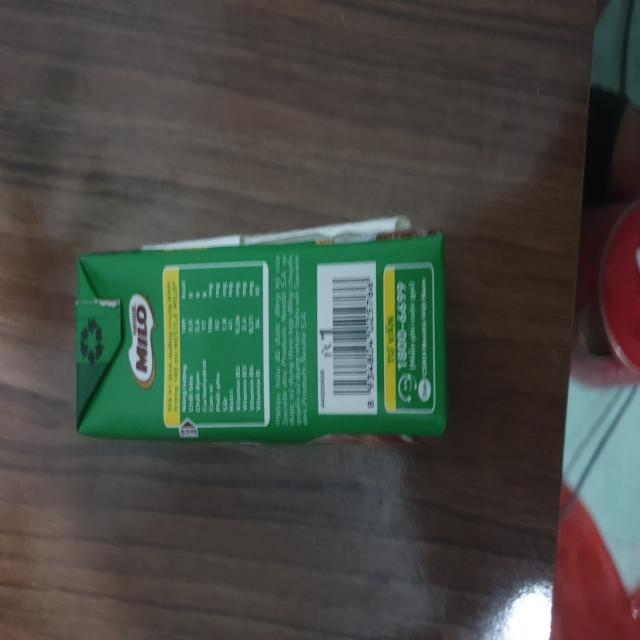Milo: (72, 234, 456, 455)
